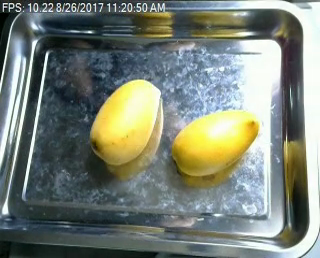Mango: (91, 79, 158, 164), (173, 111, 262, 174)
